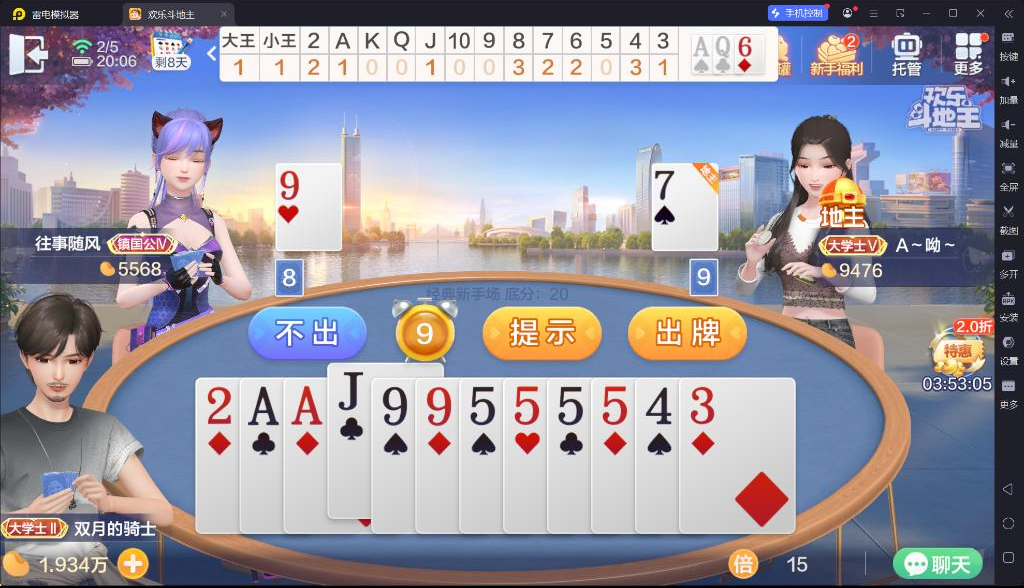A: (288, 381, 324, 427), (245, 383, 281, 429), (692, 35, 710, 58)
J: (332, 368, 365, 412)
Q: (714, 35, 731, 58)
five: (465, 381, 498, 427), (510, 381, 542, 427), (554, 383, 587, 427), (599, 383, 629, 427)
four: (643, 384, 676, 427)
nine: (378, 382, 410, 428), (421, 384, 453, 427), (277, 169, 301, 201)
seven: (652, 167, 676, 201)
six: (737, 35, 753, 58)
three: (687, 384, 715, 426)
two: (203, 384, 235, 428)
